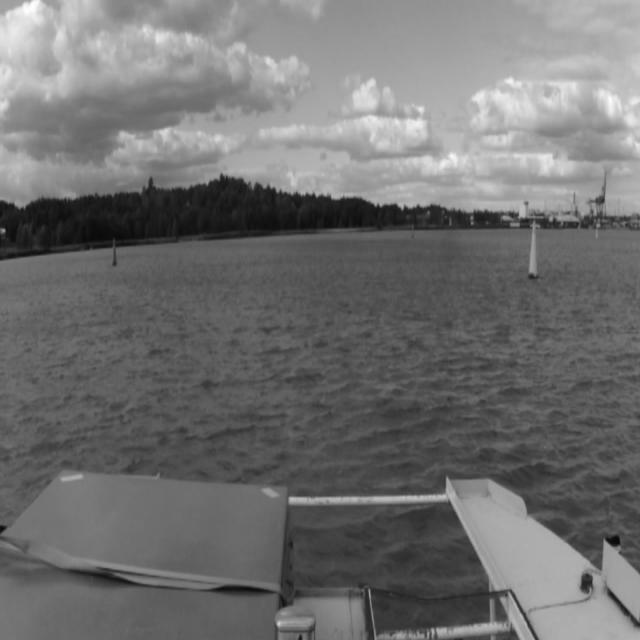buoy: (530, 224, 538, 276), (409, 217, 417, 243), (594, 217, 599, 243), (112, 242, 116, 265)
